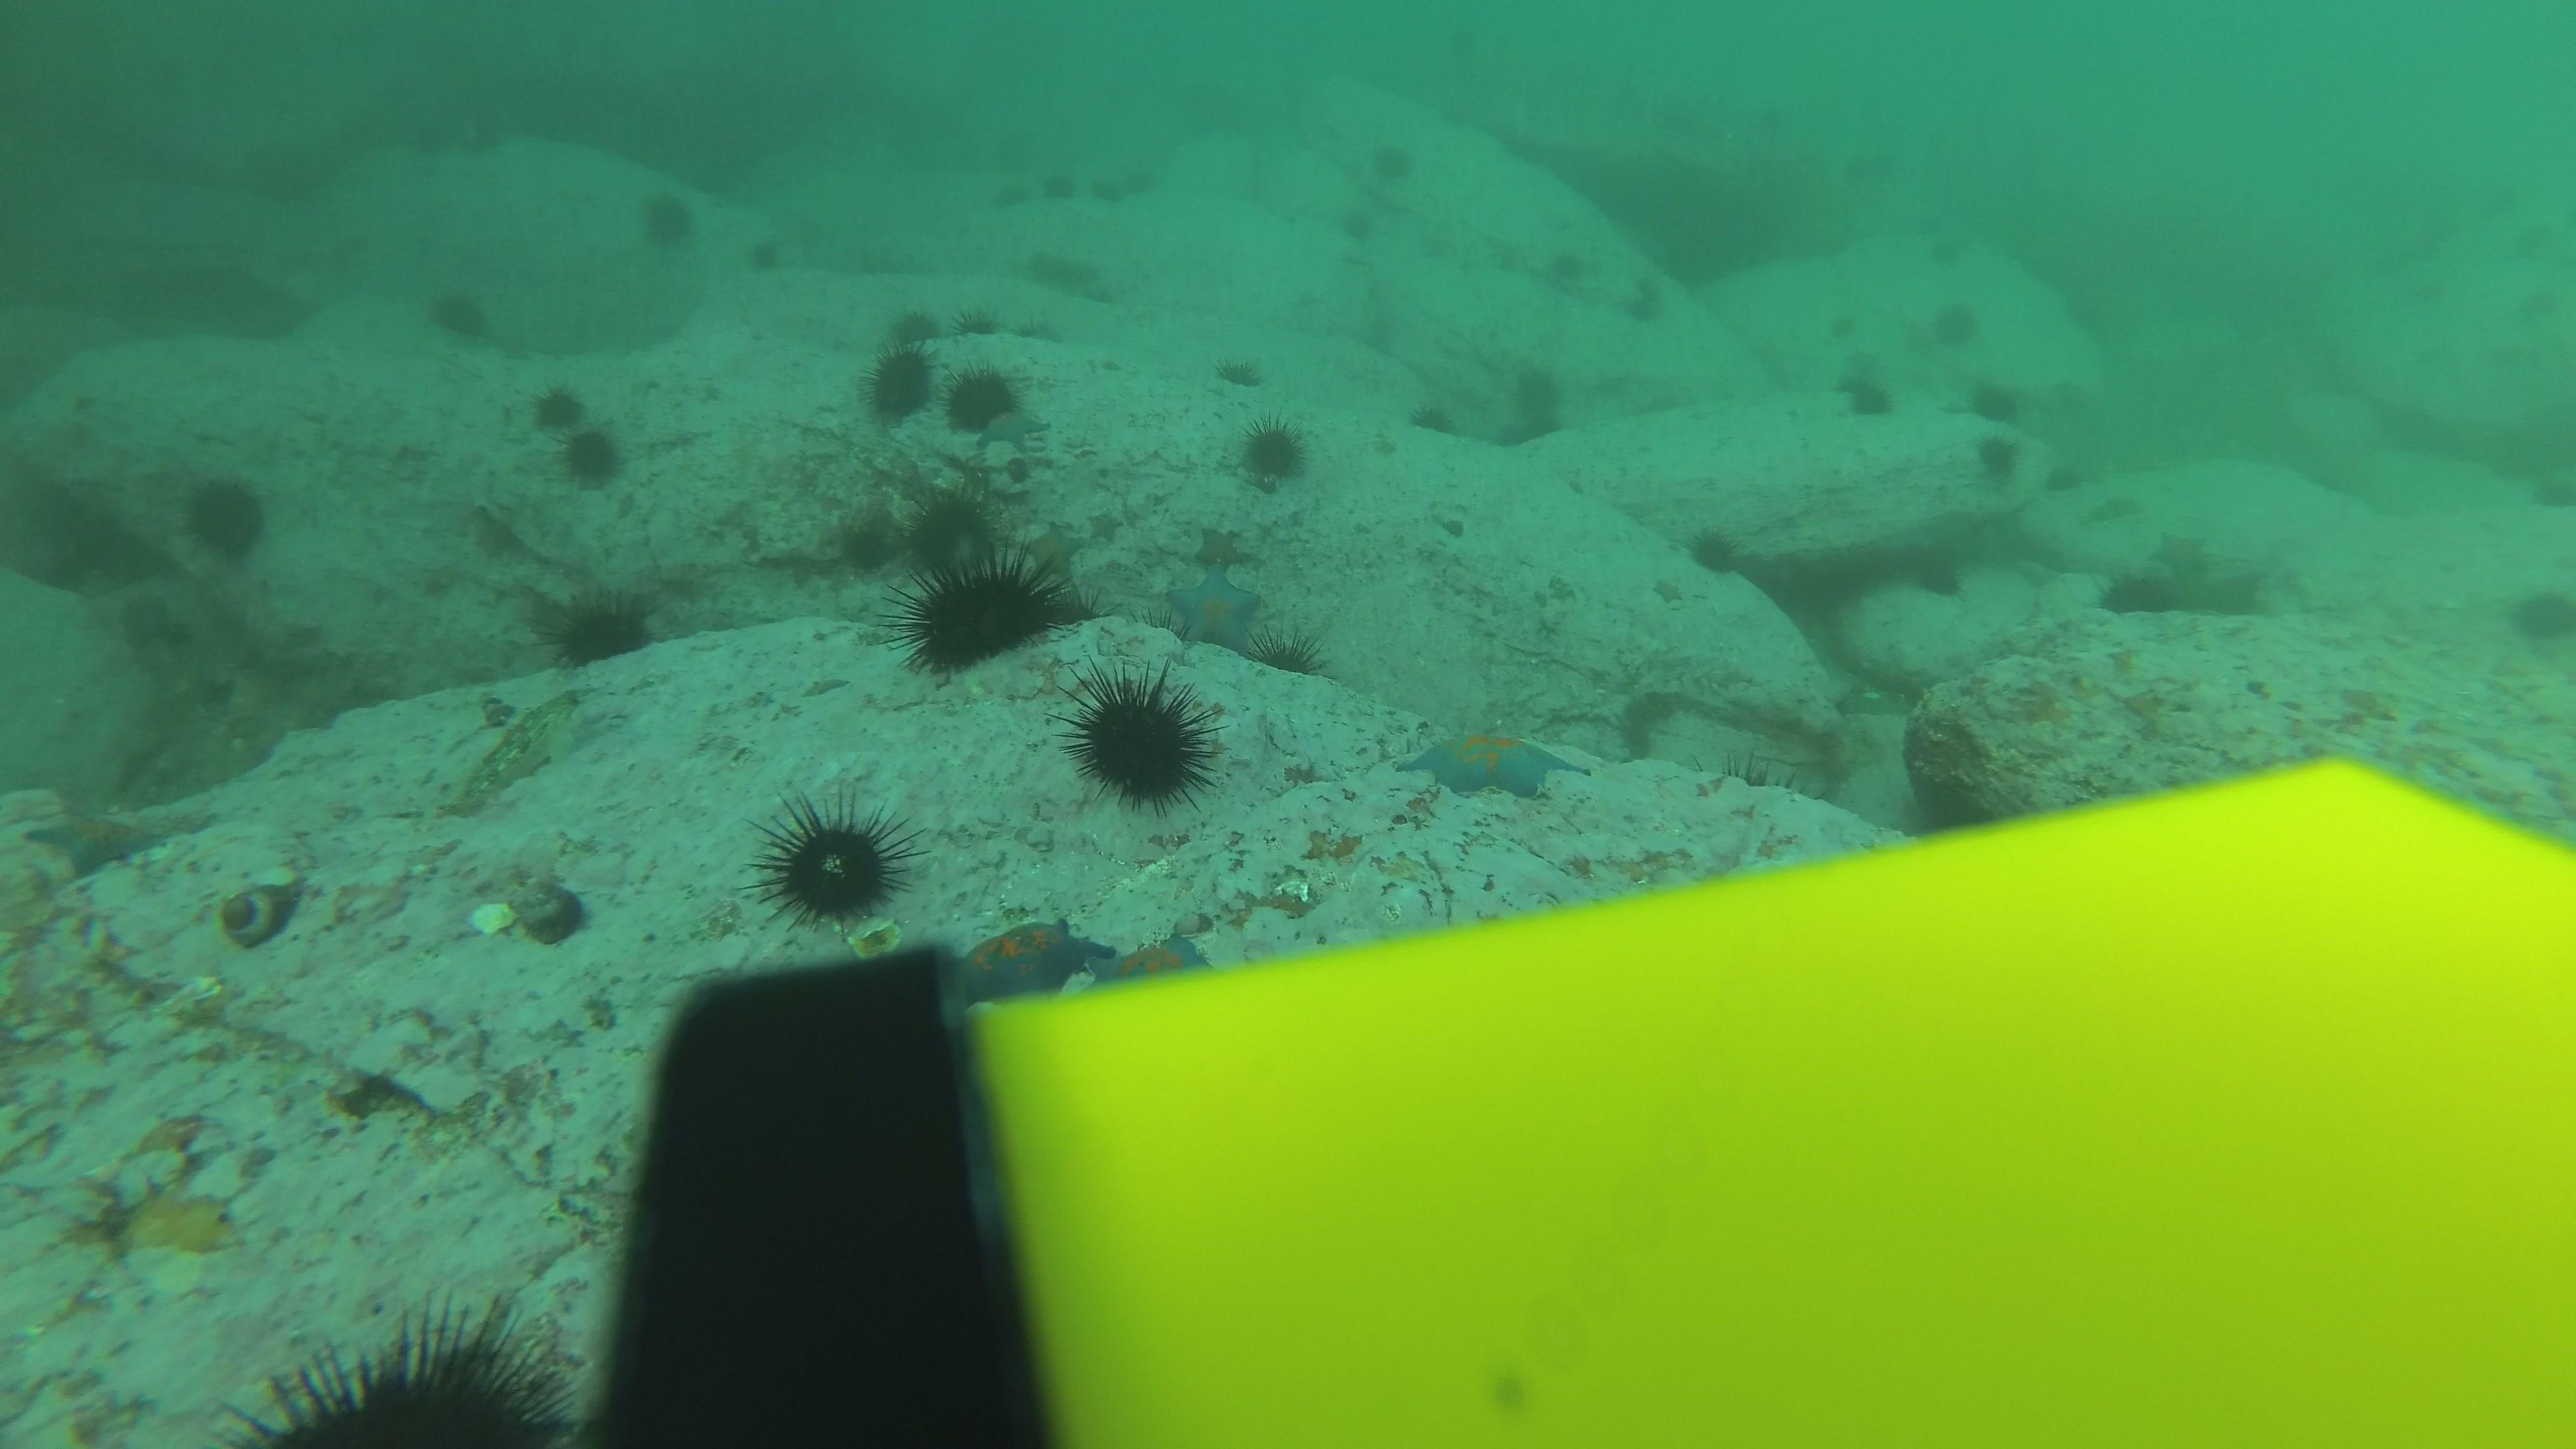echinus: (228, 1299, 580, 1444), (1063, 665, 1219, 812), (893, 550, 1067, 678), (755, 794, 909, 929), (540, 586, 656, 672), (179, 471, 272, 563), (862, 338, 936, 425), (550, 414, 625, 497), (939, 364, 1023, 435), (911, 490, 994, 561), (1235, 414, 1309, 488), (2098, 561, 2185, 619), (2505, 580, 2576, 651), (1240, 621, 1323, 679), (425, 281, 494, 345), (635, 186, 699, 251), (1684, 522, 1741, 577), (531, 380, 587, 433), (1930, 292, 1985, 345), (1911, 223, 1966, 276), (1971, 432, 2022, 485), (1513, 363, 1566, 409), (1913, 564, 1971, 605), (2042, 460, 2100, 501), (2518, 476, 2576, 517), (1108, 157, 1161, 202), (1543, 239, 1596, 283), (1966, 380, 2024, 419), (1012, 304, 1063, 349), (989, 173, 1040, 218), (1081, 173, 1132, 218), (1414, 403, 1465, 448), (1361, 138, 1412, 182), (886, 303, 938, 345), (952, 304, 1003, 347), (1033, 157, 1085, 200), (1215, 352, 1267, 395), (1336, 200, 1387, 242), (1845, 384, 1890, 419), (1831, 366, 1875, 402), (1626, 292, 1668, 327), (1626, 269, 1668, 304), (1491, 425, 1541, 455), (1516, 405, 1564, 435), (1826, 308, 1865, 341), (1874, 147, 1907, 175), (1845, 150, 1877, 177)
holothurian: (2075, 492, 2146, 525)
starfish: (938, 913, 1122, 1014), (1399, 720, 1599, 805), (16, 801, 170, 879), (1162, 564, 1269, 656), (1097, 924, 1214, 985), (1026, 520, 1085, 575), (980, 405, 1049, 451), (2148, 533, 2215, 575), (1192, 524, 1244, 573), (1090, 508, 1131, 547), (1651, 575, 1691, 609), (1842, 343, 1882, 377), (1932, 391, 1969, 419)
